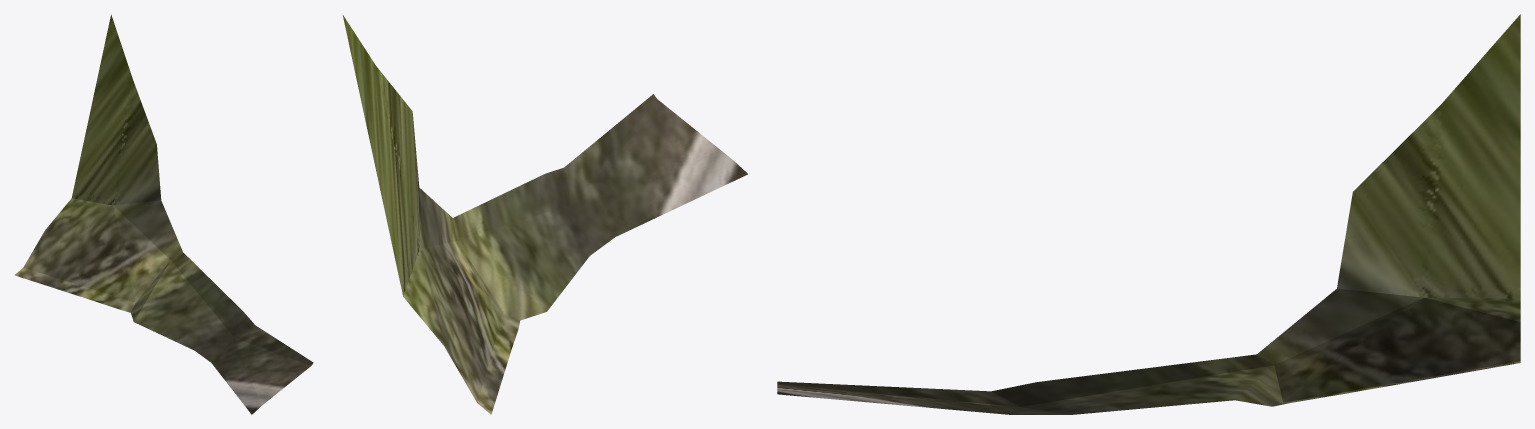
The picture shows the model from 3 angles, left to right: view 1: azimuth 30°, elevation 25°; view 2: azimuth 150°, elevation 25°; view 3: azimuth 270°, elevation 25°; orthographic projection. The views are drawn at different scales.
Size of the model in its own units: 0.8155 by 1.91 by 2.95.
1 material, 1 textured.
